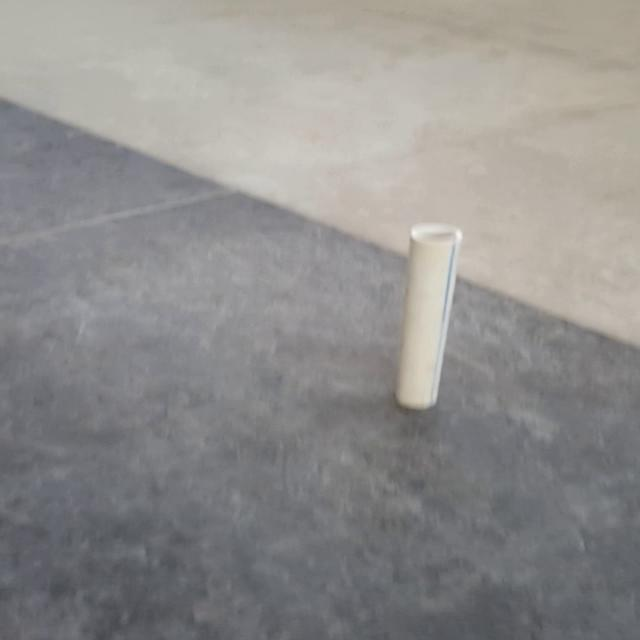Cube: (393, 222, 462, 410)
